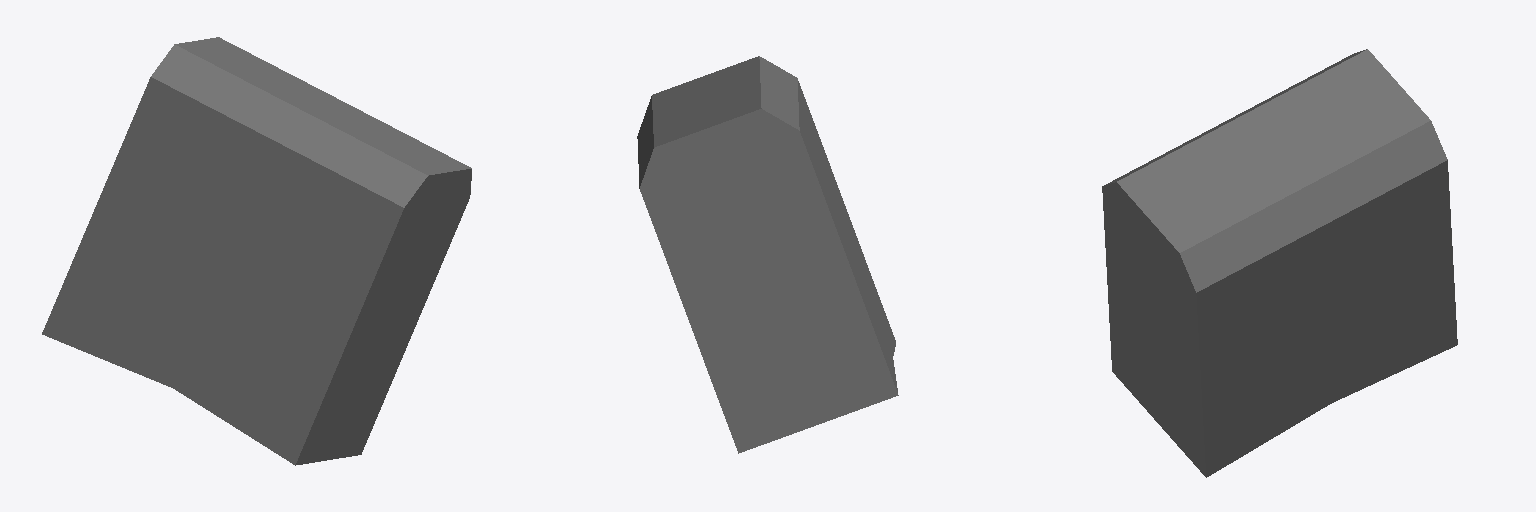
Rendered from clothe3.obj.
3 views of the same model, side by side, from view 1: azimuth 30°, elevation 25°; view 2: azimuth 150°, elevation 25°; view 3: azimuth 270°, elevation 25° (orthographic).
Visible parts, largest first — view 1: Object001; view 2: Object001; view 3: Object001.
Boxes of the visible parts, x1,y1,x2,y2 form: Object001: [42, 37, 471, 465]; Object001: [637, 56, 898, 453]; Object001: [1102, 49, 1457, 477].
Size of the model in its own units: 11 by 11.5 by 9.82.